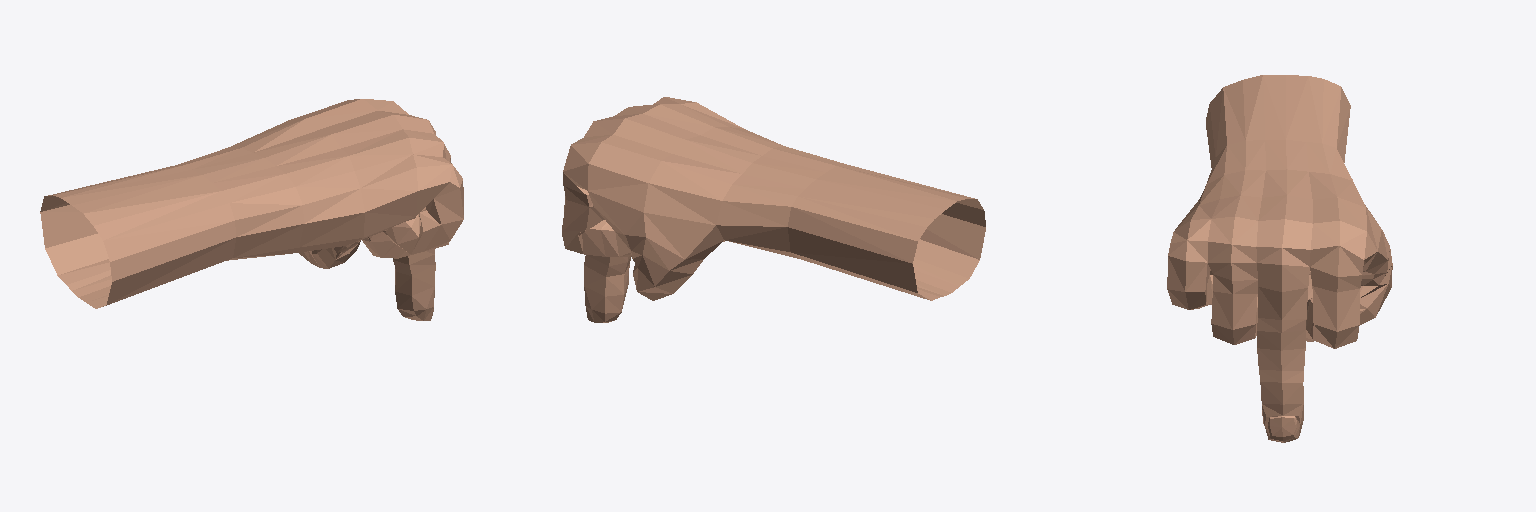
The model's file is wtf.obj.
3 views of the same model, side by side, from view 1: azimuth 30°, elevation 25°; view 2: azimuth 150°, elevation 25°; view 3: azimuth 270°, elevation 25° (orthographic).
Parts seen in each view (by area): view 1: Cube.000_Cube.017; view 2: Cube.000_Cube.017; view 3: Cube.000_Cube.017.
Boxes of the visible parts, x1=… form: Cube.000_Cube.017: x1=40, y1=99, x2=463, y2=320; Cube.000_Cube.017: x1=562, y1=97, x2=985, y2=322; Cube.000_Cube.017: x1=1167, y1=75, x2=1392, y2=442.
Bounding box in the file's own units: 0.1814 × 0.1007 × 0.0977.